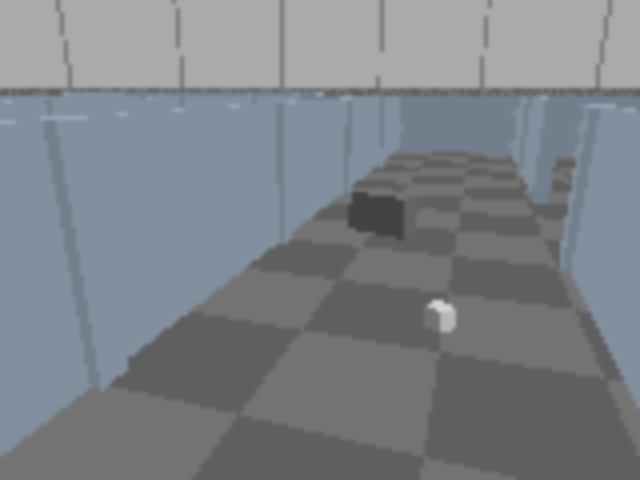obstacle: (349, 186, 419, 240)
puck: (423, 300, 457, 335)
